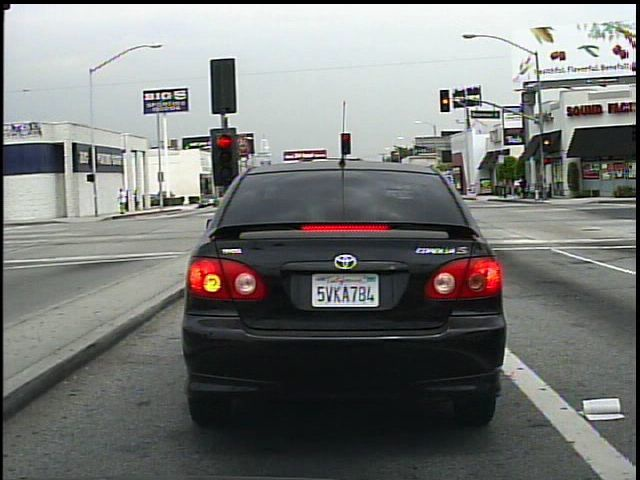person: (118, 186, 131, 217), (518, 174, 531, 200)
